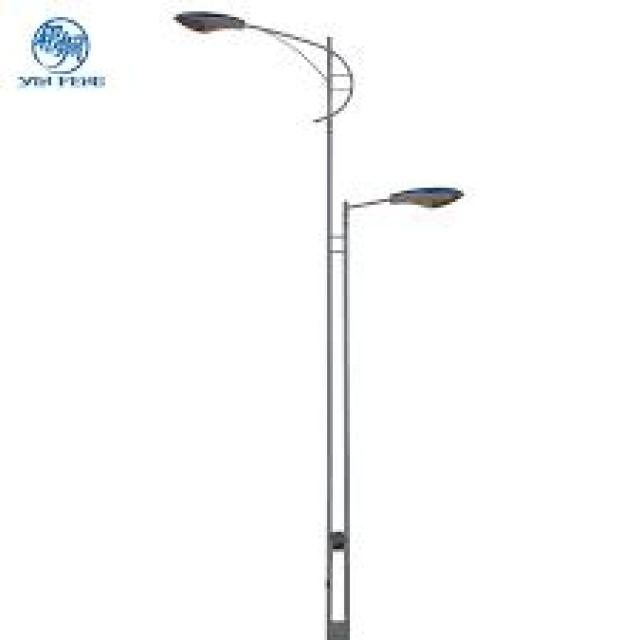Street Light: (170, 8, 466, 640)
